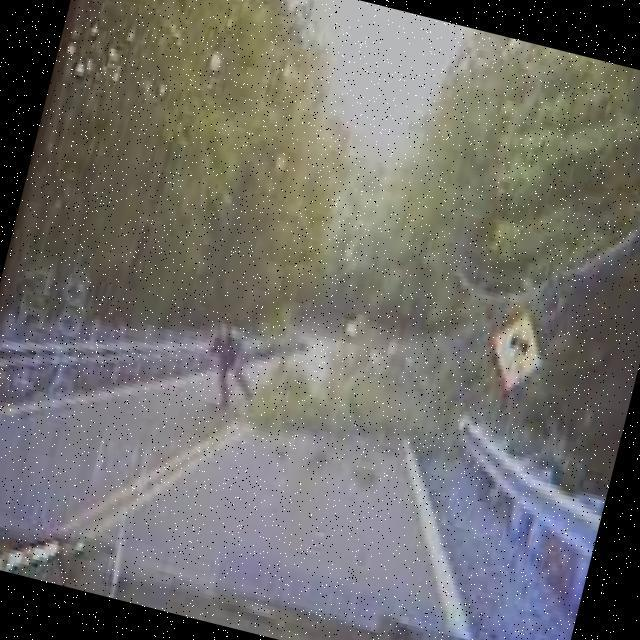fallen_object: (446, 134, 640, 405), (242, 338, 460, 458)
